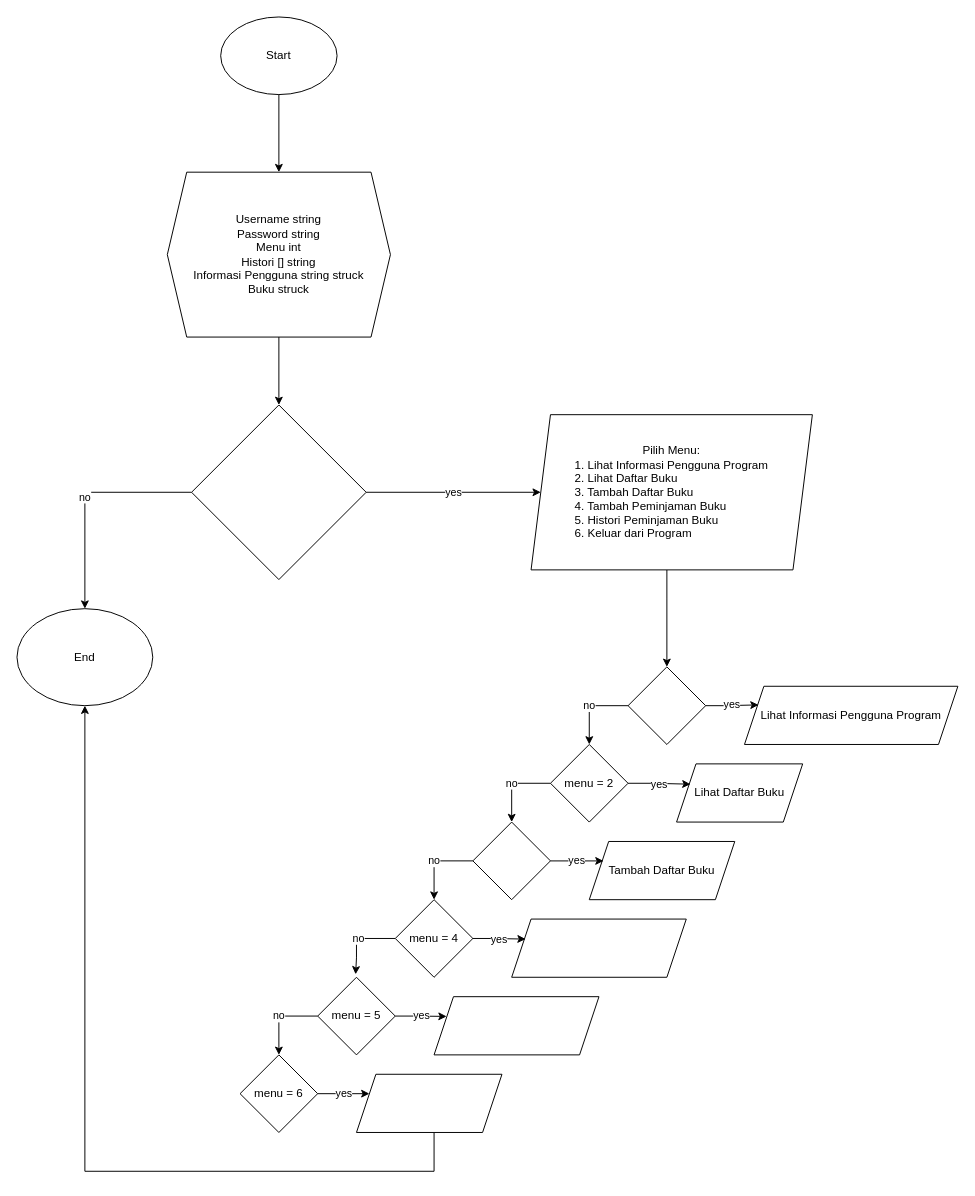
This 975x1196 diagram has some shape labels left out. Each missing label, with the box of its shape:
Histori Peminjaman Buku: (433, 996, 599, 1055)
Input username = username Input password = password: (191, 404, 366, 580)
Keluar dari Program: (356, 1073, 502, 1132)
menu = 1: (627, 666, 706, 744)
menu = 3: (472, 821, 550, 900)
Tambah Peminjaman Buku: (511, 918, 686, 977)
